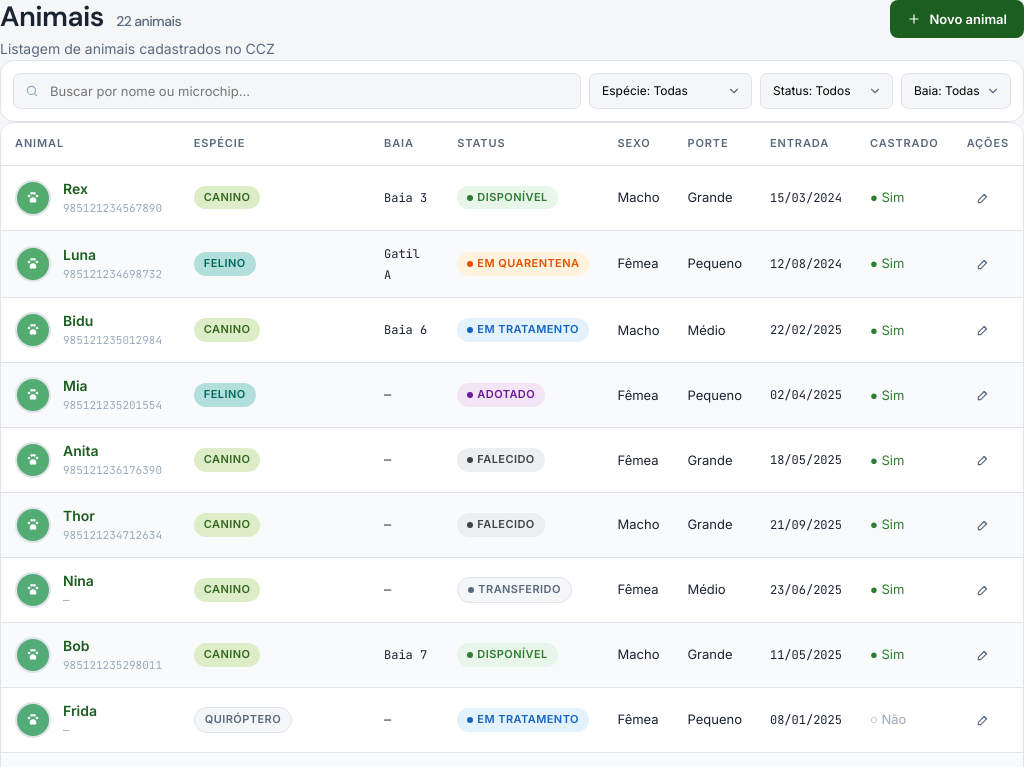
it: Animais › filtra por status
The image size is (1024, 767).
Check: the link "Rex" is shown, box [63, 180, 88, 197]
Select "Adotado" in the dropdown named "filtrar por status". click: (826, 91)
box: [760, 73, 893, 109]
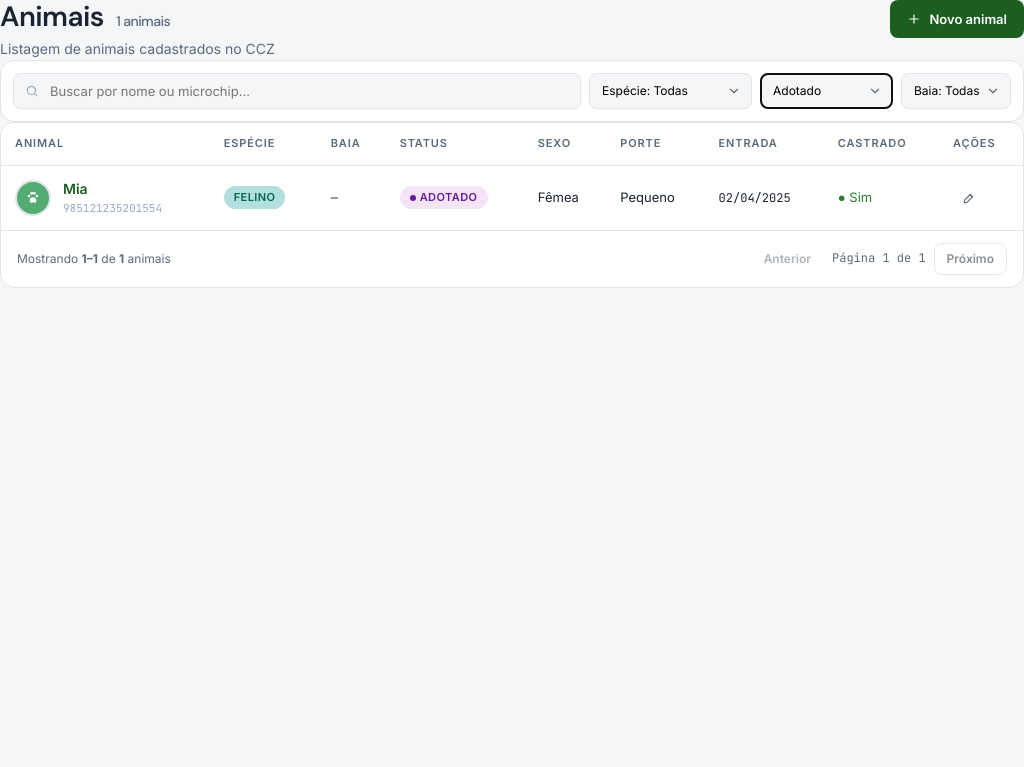
Check: the link "Mia" is shown, box [63, 180, 88, 197]
Check: the link "Rex" is gone
